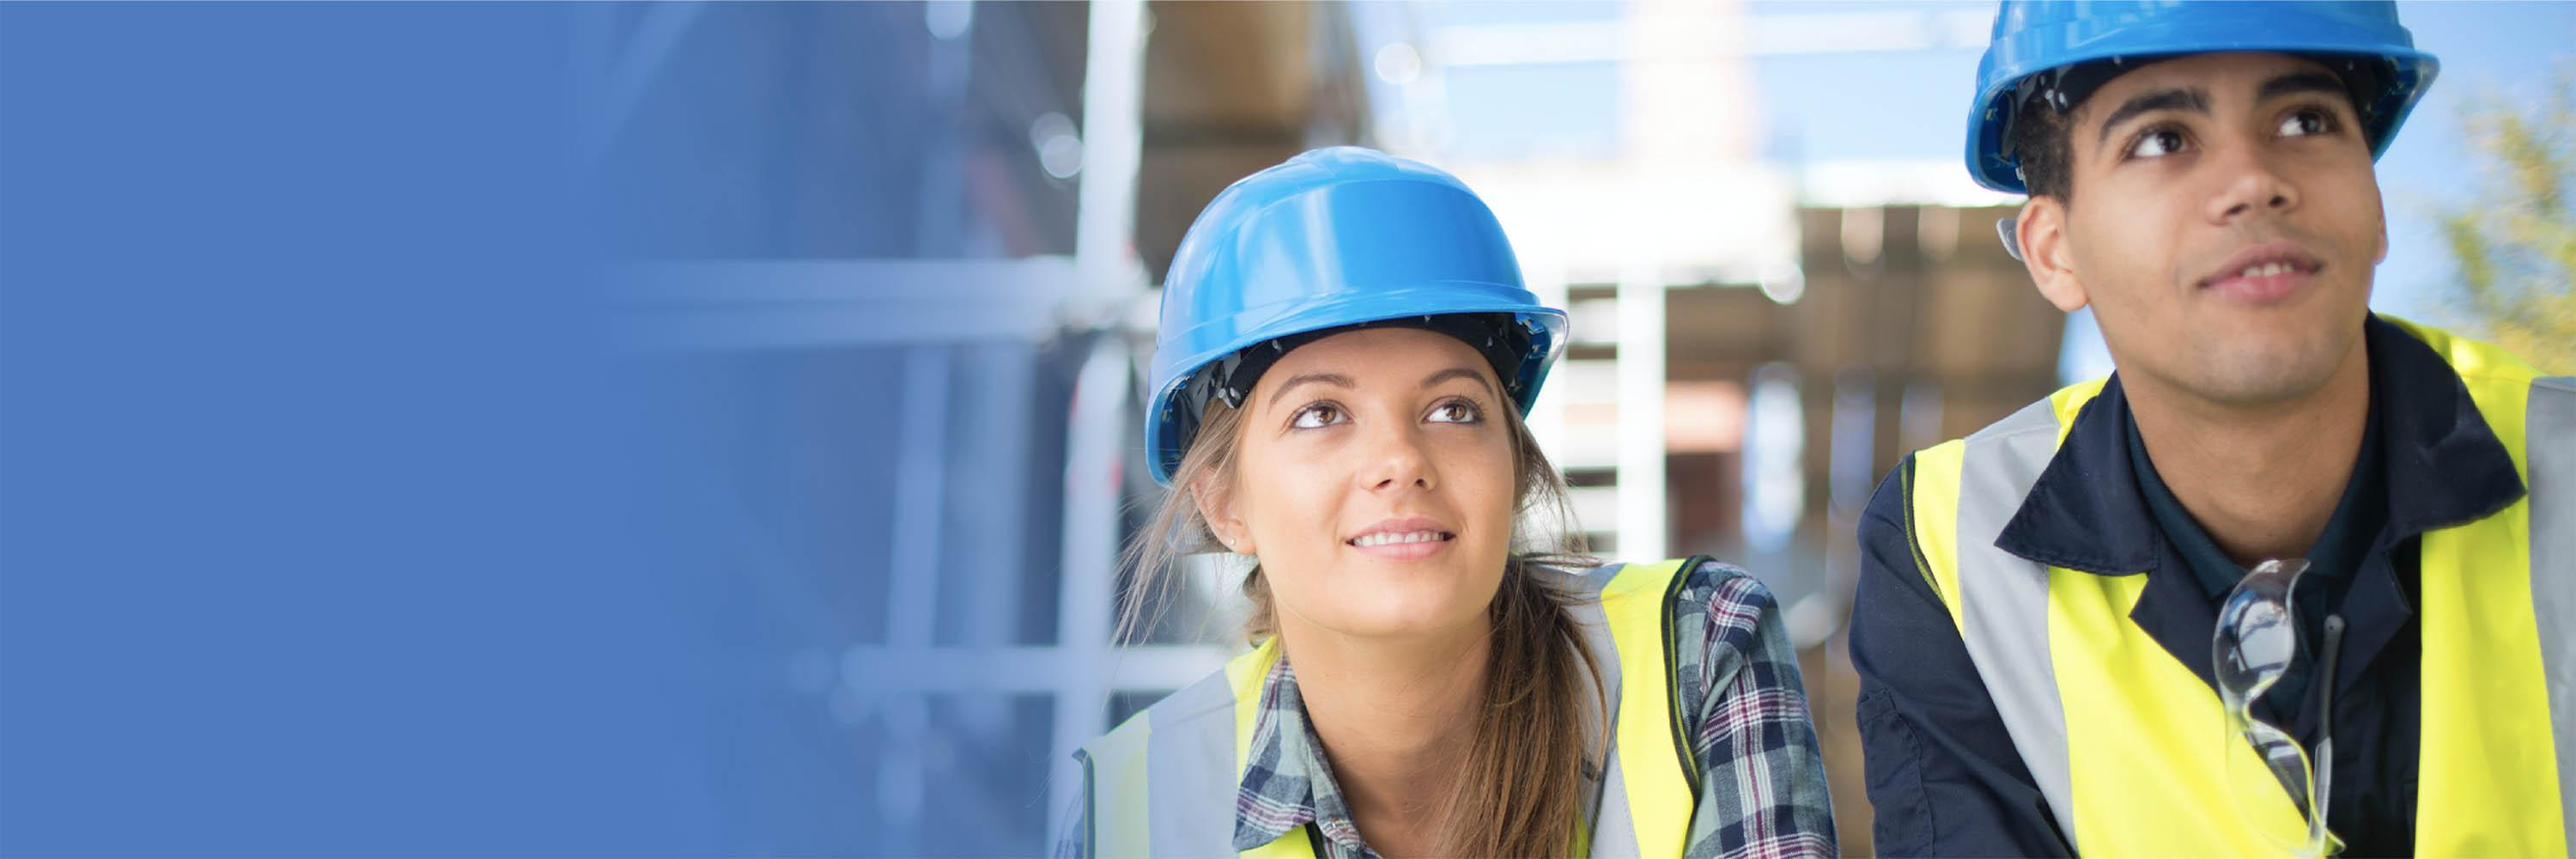helmet: (1145, 140, 1577, 483), (1917, 2, 2441, 194)
